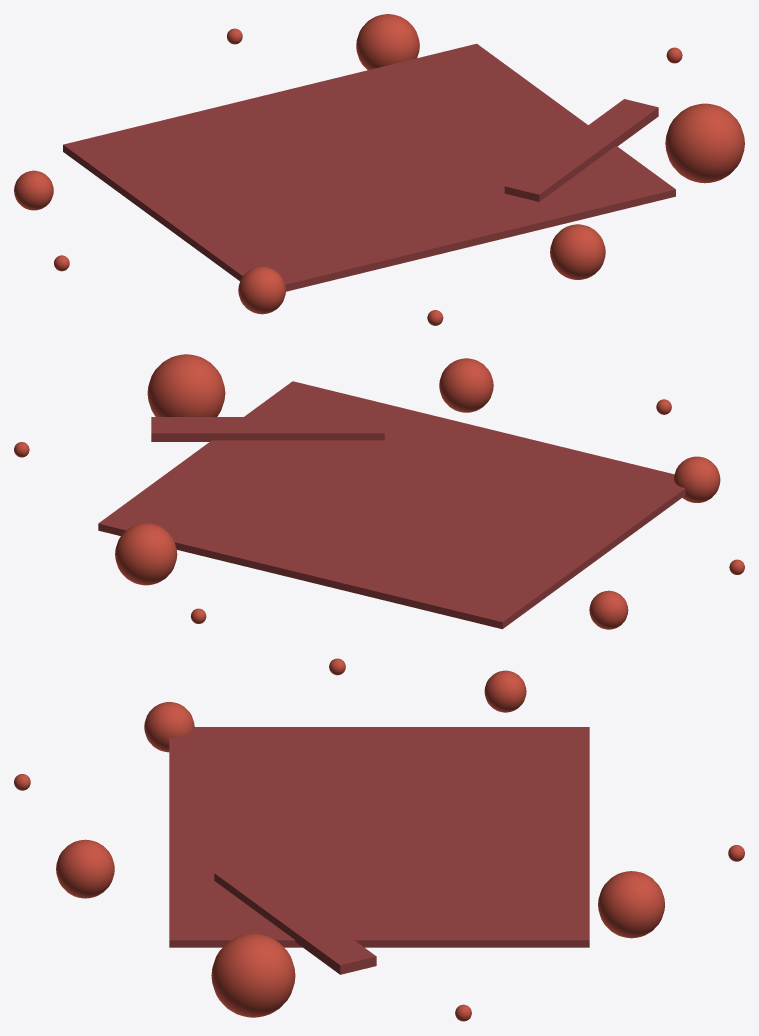
File: blood_splatter.glb
The picture shows the model from 3 angles, top to bottom: view 1: azimuth 30°, elevation 25°; view 2: azimuth 150°, elevation 25°; view 3: azimuth 270°, elevation 25°; orthographic projection. The views are drawn at different scales.
Parts seen in each view (by area): view 1: main_blood, smear, drop_1, drop_3, drop_5, drop_2, drop_4; view 2: main_blood, smear, drop_1, drop_3, drop_5, drop_2, drop_4; view 3: main_blood, smear, drop_1, drop_3, drop_5, drop_2, drop_4.
Boxes of the visible parts, x1,y1,x2,y2 form: main_blood: (63,43,675,291); smear: (504,99,658,201); drop_1: (665,103,744,183); drop_3: (356,14,419,69); drop_5: (550,224,605,279); drop_2: (238,266,285,314); drop_4: (14,170,53,210); main_blood: (98,381,685,629); smear: (151,417,384,441); drop_1: (147,354,225,416); drop_3: (115,523,177,585); drop_5: (439,358,493,412); drop_2: (673,456,720,502); drop_4: (589,590,628,629); main_blood: (169,727,589,947); smear: (214,864,376,974); drop_1: (211,933,295,1017); drop_3: (598,871,664,938); drop_5: (56,839,114,898); drop_2: (144,702,194,752); drop_4: (484,670,526,712).
Bounding box in the file's own units: 1.99 × 0.2 × 1.74.
